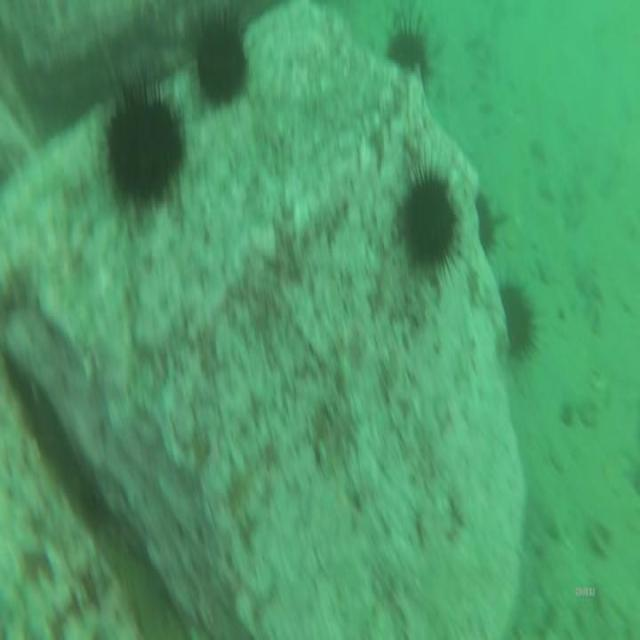echinus: (107, 95, 182, 197), (196, 29, 246, 104), (407, 180, 452, 262), (508, 286, 532, 352), (389, 32, 425, 63)
